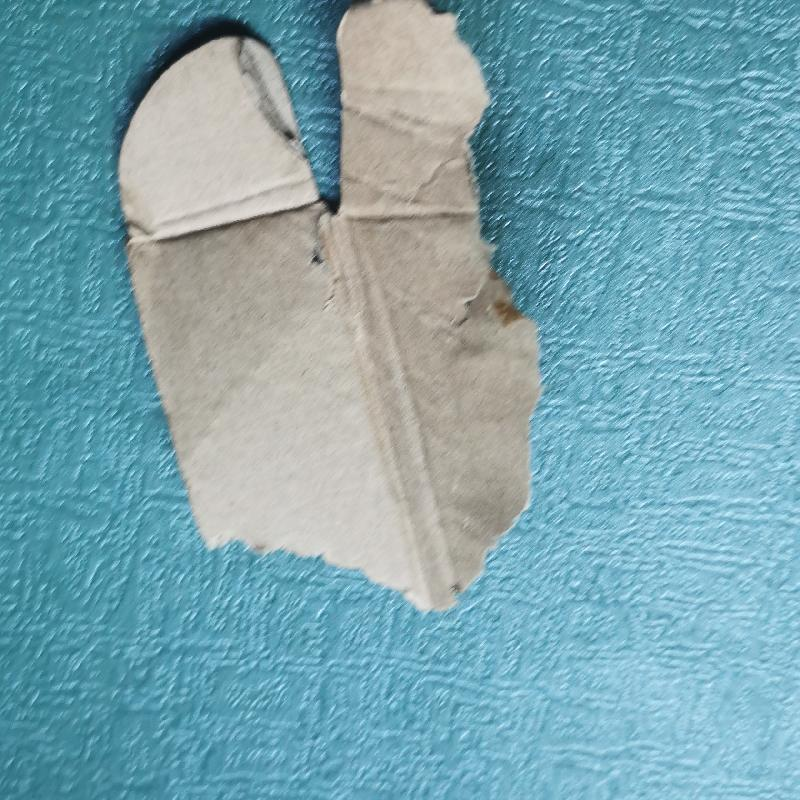boxes: (113, 8, 548, 619)
